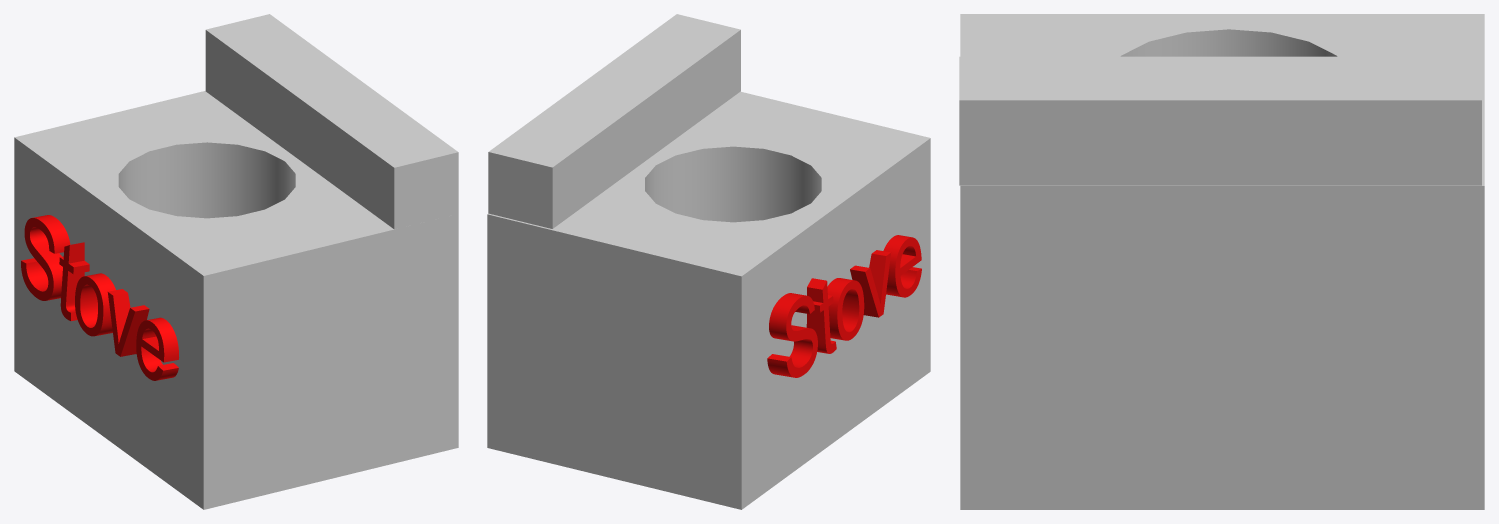
File: oven.obj
3 renders of one model, left to right at view 1: azimuth 30°, elevation 25°; view 2: azimuth 150°, elevation 25°; view 3: azimuth 270°, elevation 25°, orthographic. The views are drawn at different scales.
Parts seen in each view (by area): view 1: Cylinder001, Box002, Text001; view 2: Cylinder001, Box002, Text001; view 3: Cylinder001, Box002.
Part boxes in pixels (x1,y1,x2,y2): Cylinder001: (14,91,458,509); Box002: (205,14,458,229); Text001: (21,215,179,380); Cylinder001: (487,91,930,509); Box002: (488,14,740,228); Text001: (767,235,921,377); Cylinder001: (960,14,1484,509); Box002: (959,56,1481,185).
Size of the model in its own units: 48.81 by 50.14 by 58.25.
